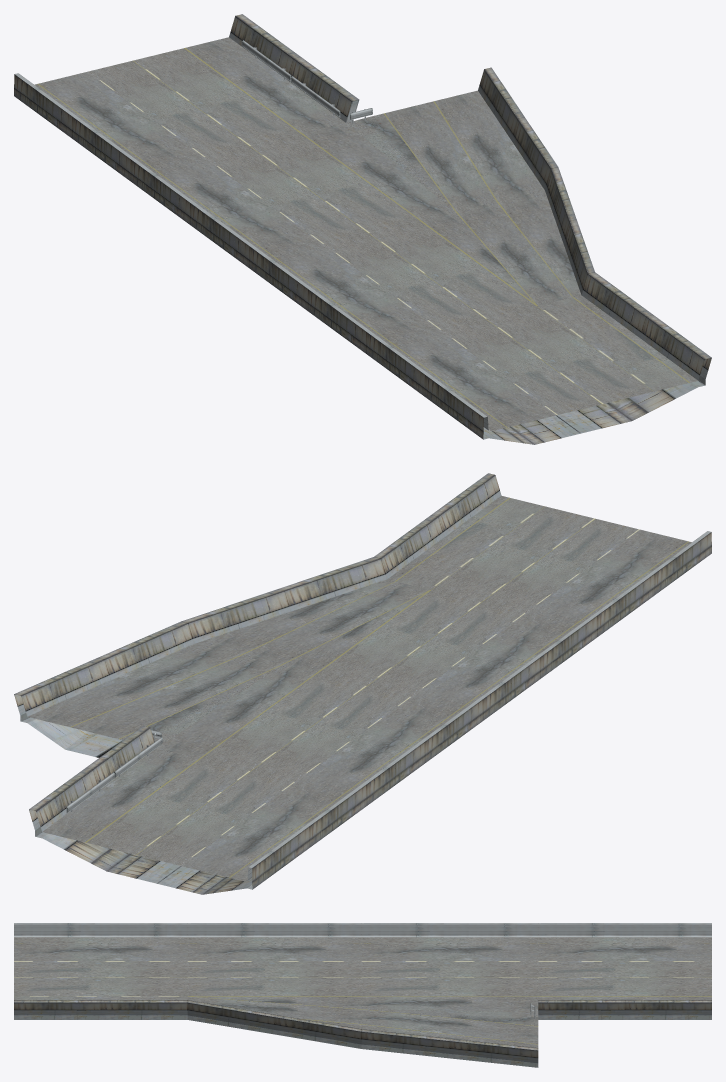
The model's file is Highway_Road_Part_08.fbx.
3 views of the same model, one above another, from view 1: azimuth 30°, elevation 25°; view 2: azimuth 150°, elevation 25°; view 3: azimuth 270°, elevation 25° (orthographic). The views are drawn at different scales.
Parts seen in each view (by area): view 1: Highway_Road_Part_08; view 2: Highway_Road_Part_08; view 3: Highway_Road_Part_08.
Boxes of the visible parts, x1,y1,x2,y2 form: Highway_Road_Part_08: (14,14,711,444); Highway_Road_Part_08: (14,473,711,894); Highway_Road_Part_08: (14,923,711,1067).
Size of the model in its own units: 2354 by 274 by 5308.
